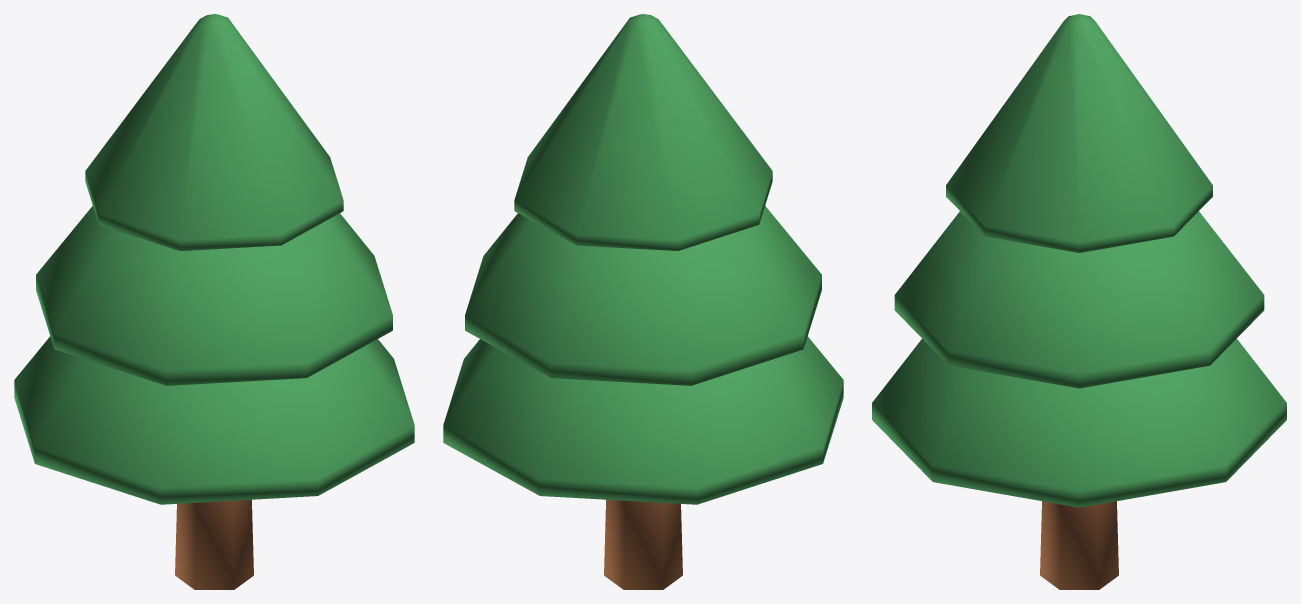
File: Tree.fbx
The picture shows the model from 3 angles, left to right: view 1: azimuth 30°, elevation 25°; view 2: azimuth 150°, elevation 25°; view 3: azimuth 270°, elevation 25°; orthographic projection.
Visible parts, largest first — view 1: Tree; view 2: Tree; view 3: Tree.
Part boxes in pixels (x1,y1,x2,y2): Tree: [14, 14, 414, 589]; Tree: [443, 14, 843, 589]; Tree: [872, 14, 1286, 589].
Size of the model in its own units: 152 by 227 by 152.
